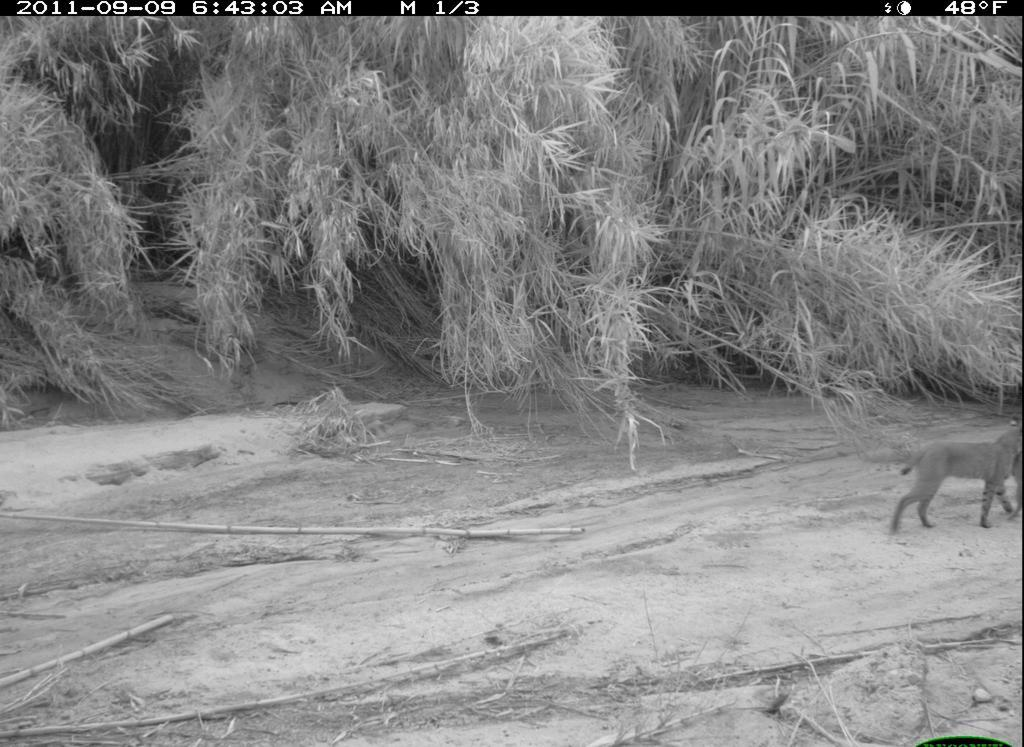bobcat: (888, 427, 1022, 537)
